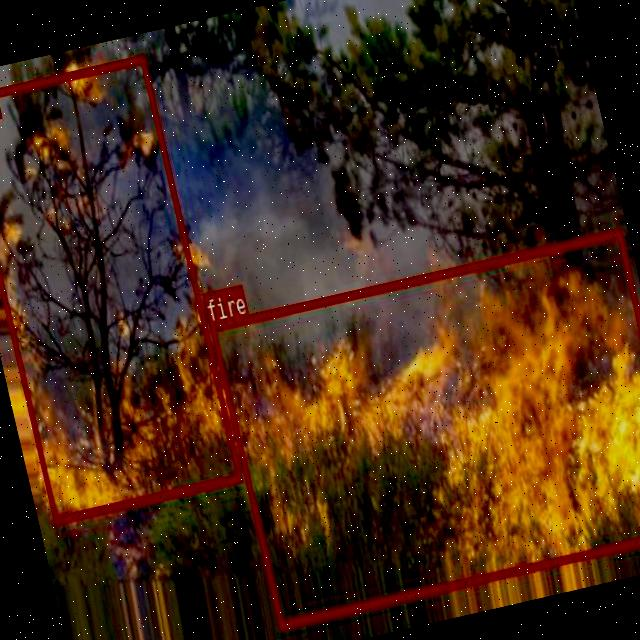fire: (207, 227, 640, 628), (0, 52, 241, 522)
